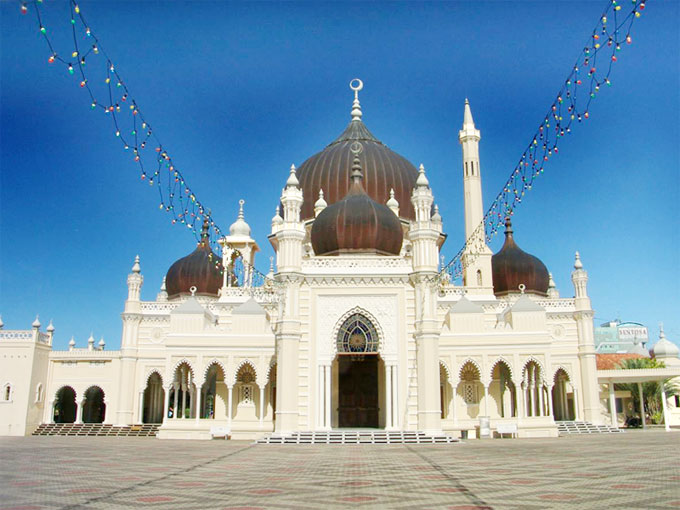Mosque: (115, 77, 591, 424)
